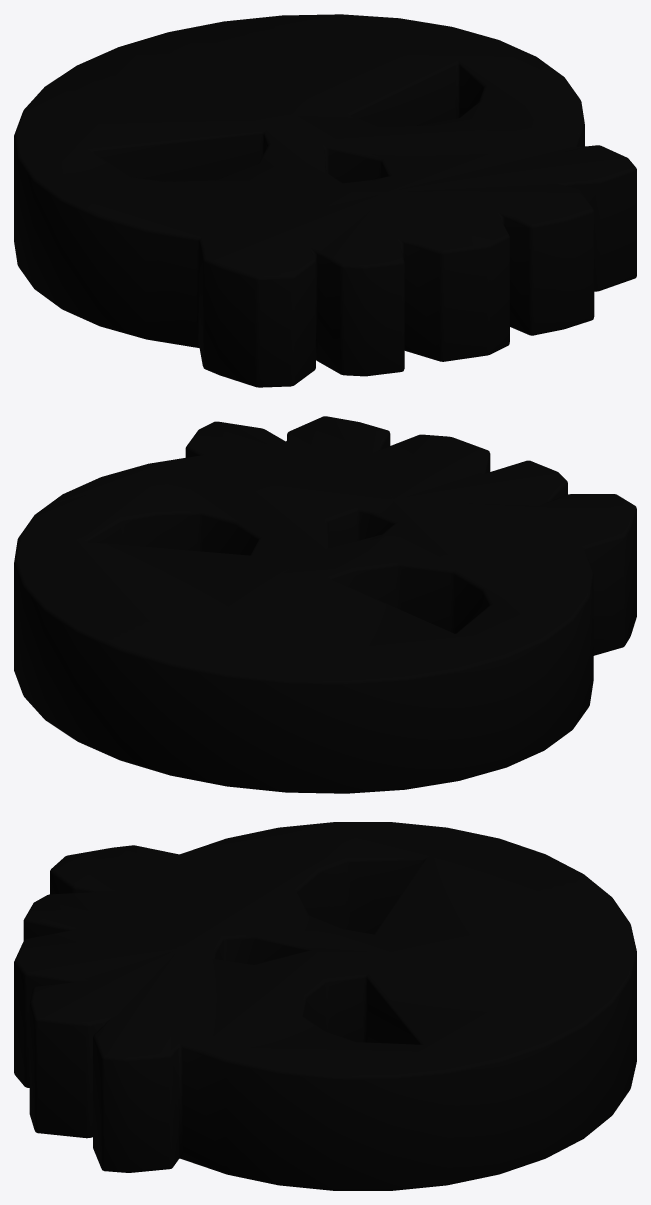
File: Caveira.fbx
3 views of the same model, one above another, from view 1: azimuth 30°, elevation 25°; view 2: azimuth 150°, elevation 25°; view 3: azimuth 270°, elevation 25° (orthographic). The views are drawn at different scales.
Parts seen in each view (by area): view 1: Caveira; view 2: Caveira; view 3: Caveira.
Boxes of the visible parts, left/top/right/bottom form: Caveira: left=14, top=14, right=636, bottom=387; Caveira: left=14, top=416, right=636, bottom=793; Caveira: left=14, top=822, right=636, bottom=1190.
Size of the model in its own units: 196 by 41.31 by 201.
Materials: 1 (1 with a texture image).
